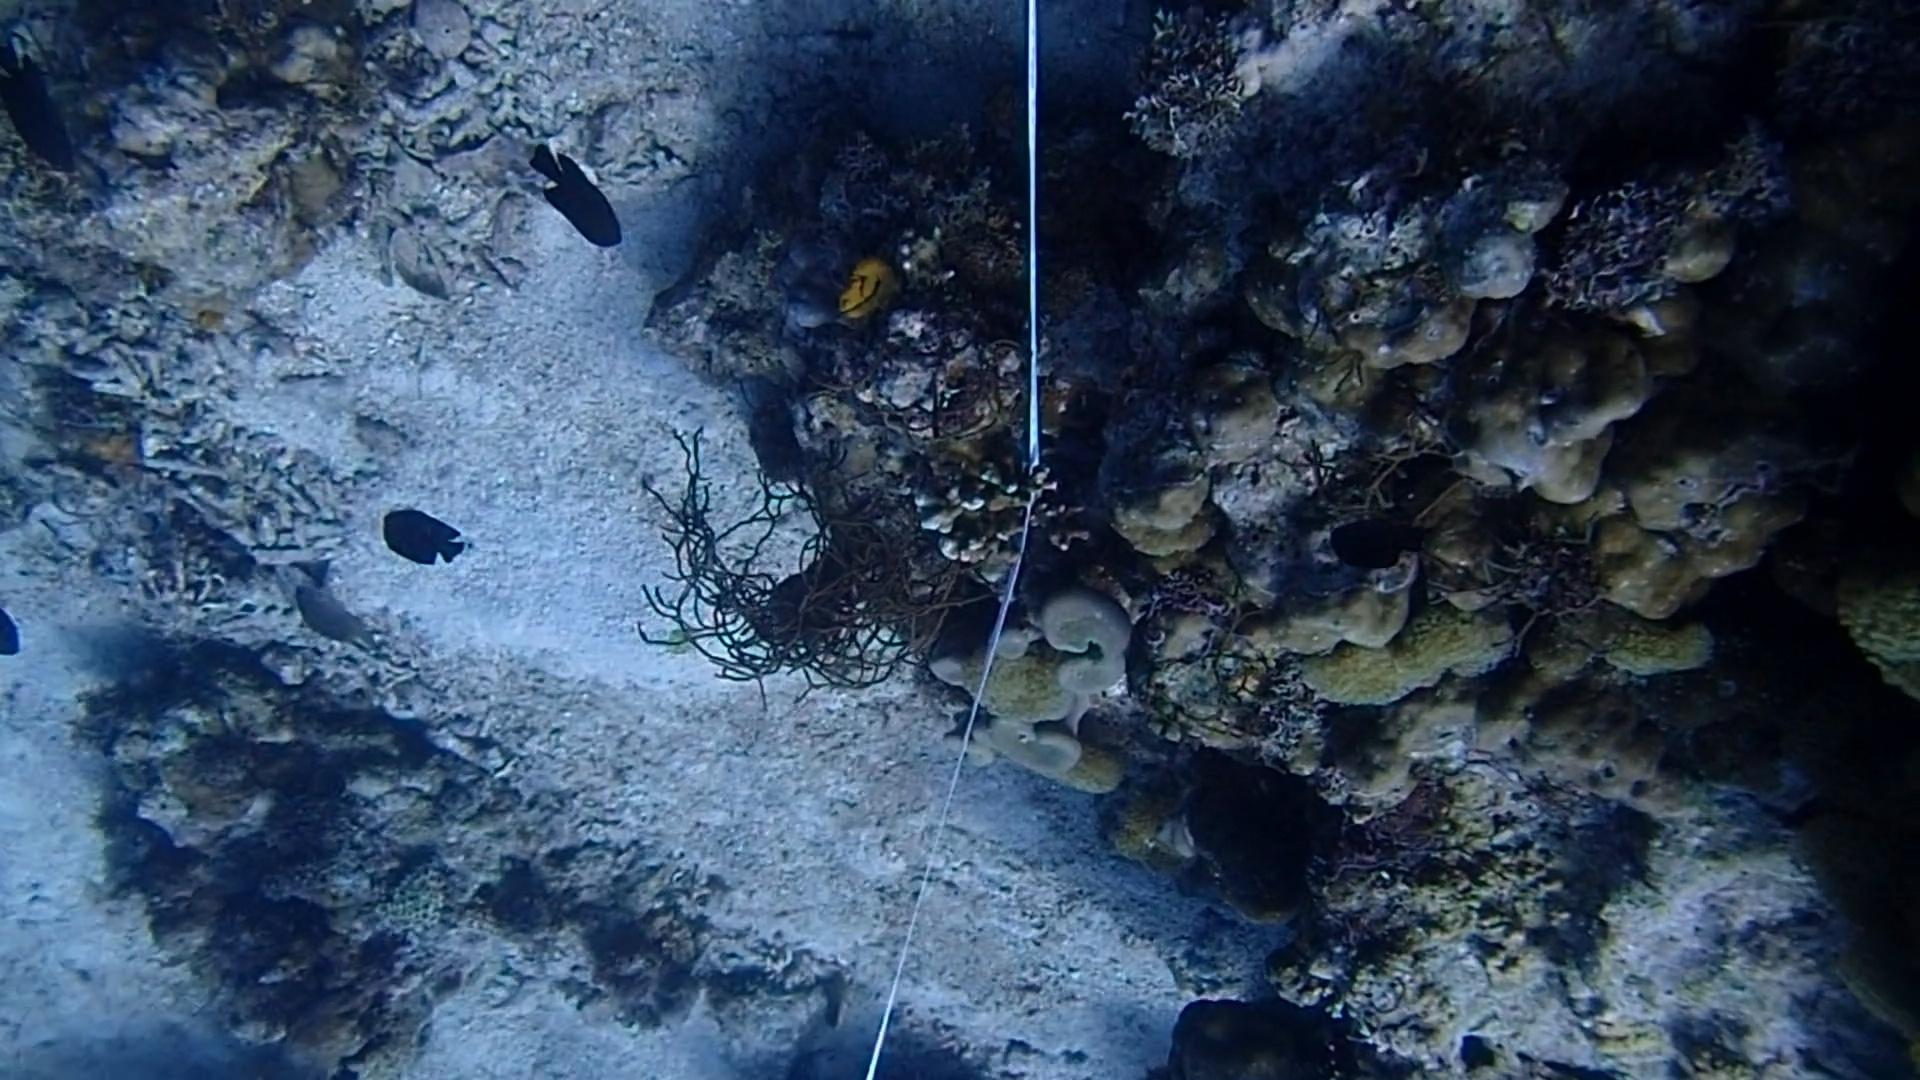Dark Fish: (518, 145, 647, 249), (0, 57, 83, 173), (372, 500, 480, 572)
Light Fish: (290, 582, 386, 647)
